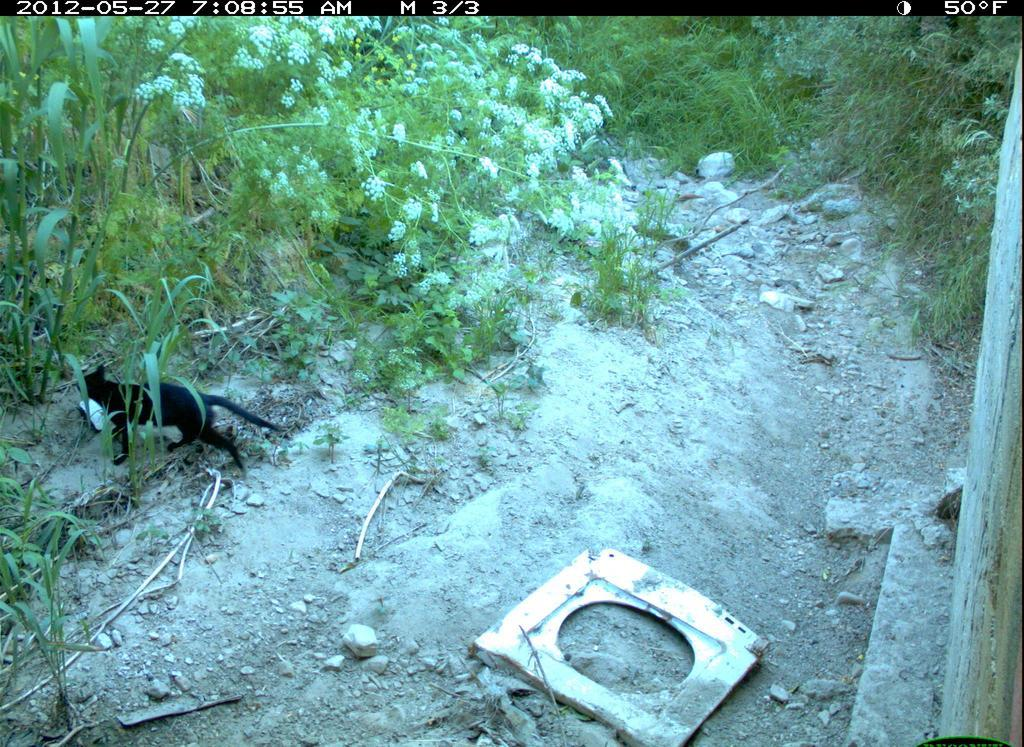cat: (73, 355, 287, 477)
